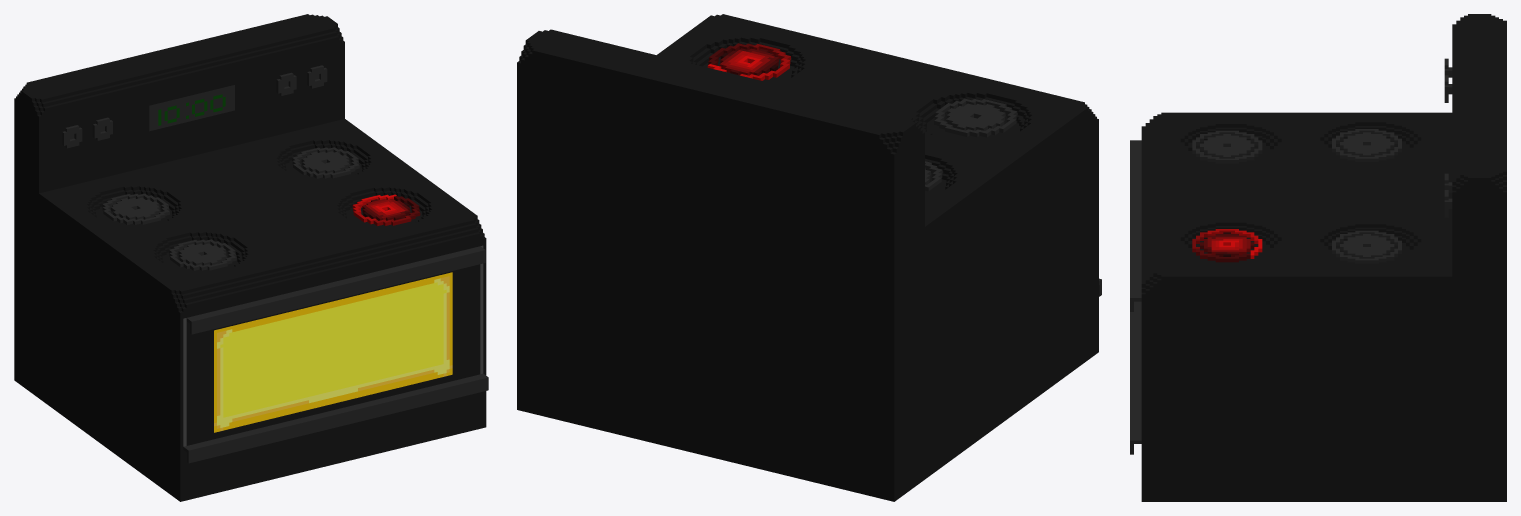
File: Stove1.obj
3 renders of one model, left to right at view 1: azimuth 30°, elevation 25°; view 2: azimuth 150°, elevation 25°; view 3: azimuth 270°, elevation 25°, orthographic. The views are drawn at different scales.
Parts seen in each view (by area): view 1: Stove; view 2: Stove; view 3: Stove.
Part boxes in pixels (x1=…): Stove: x1=14, y1=14, x2=488, y2=501; Stove: x1=517, y1=14, x2=1101, y2=501; Stove: x1=1130, y1=14, x2=1506, y2=501.
Size of the model in its own units: 100 by 92 by 97.
